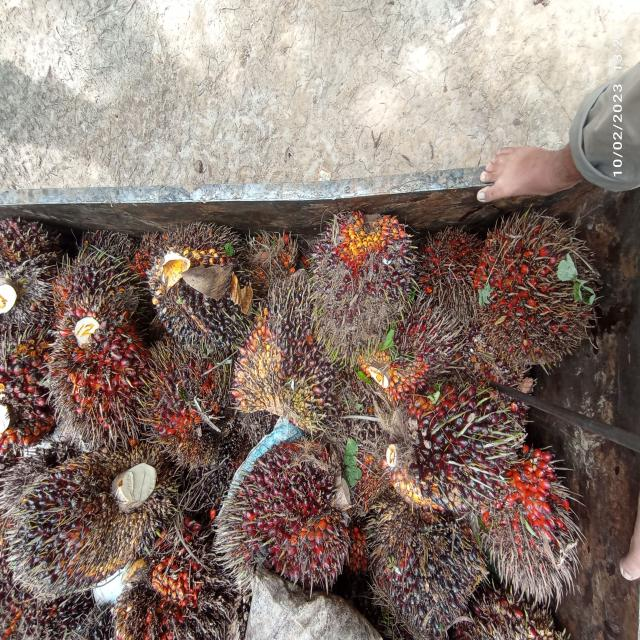fraksi 00: (234, 271, 351, 430), (363, 495, 488, 640), (140, 224, 248, 374), (45, 232, 147, 327)
fraksi 1: (6, 452, 165, 604), (375, 376, 538, 516), (303, 201, 414, 354)
fraksi 3: (214, 437, 356, 598), (141, 345, 229, 471)
fraksi 4: (458, 199, 613, 371), (37, 301, 159, 436), (112, 523, 231, 640), (482, 451, 576, 598), (410, 219, 474, 299)
